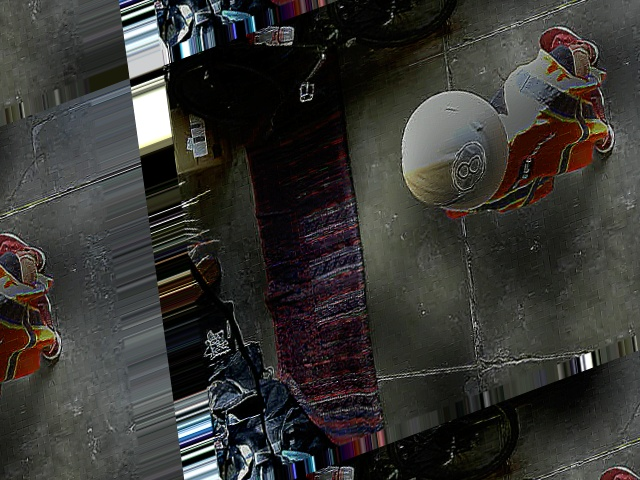eight: (447, 138, 488, 195)
